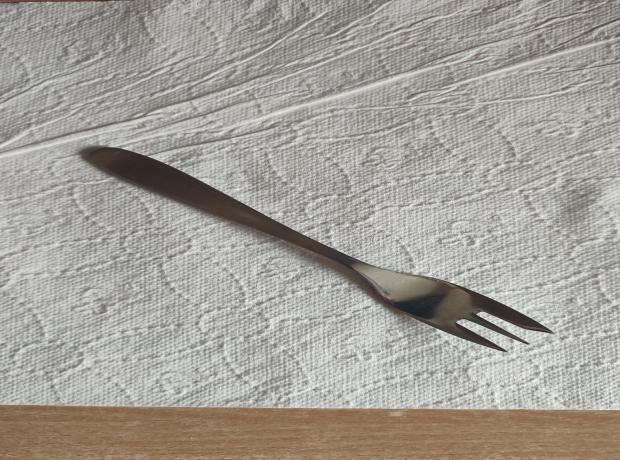metal: (82, 144, 559, 354)
